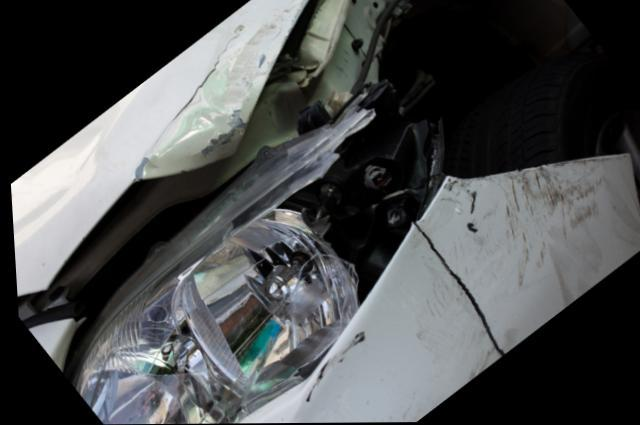crack: (410, 221, 501, 357)
dent: (135, 74, 251, 177)
lamp broken: (60, 128, 360, 425)
no part: (232, 0, 637, 291)
scratch: (435, 159, 625, 312), (296, 324, 368, 406)
